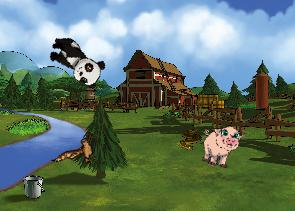eagle: (51, 122, 107, 181)
panda: (42, 31, 109, 91)
pig: (197, 121, 244, 171)
